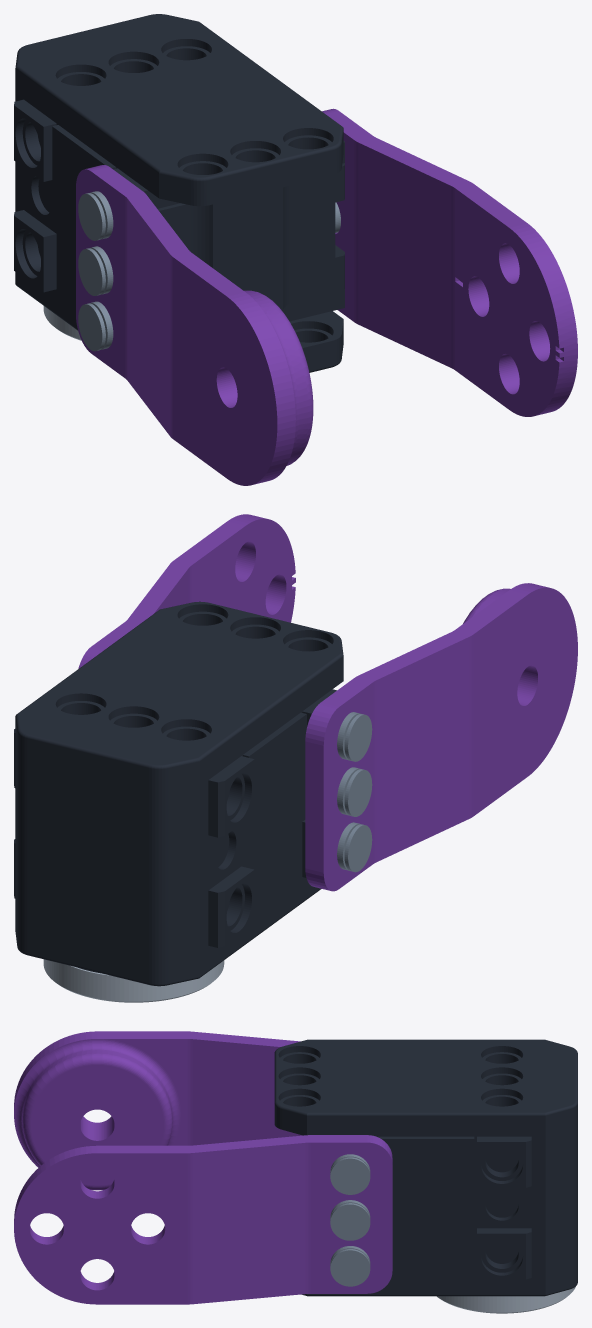
The model's file is section_3.dae.
3 views of the same model, one above another, from view 1: azimuth 30°, elevation 25°; view 2: azimuth 150°, elevation 25°; view 3: azimuth 270°, elevation 25° (orthographic). The views are drawn at different scales.
Visible parts, largest first — view 1: section_3_015_body, section_3_002_horn2horn, section_3_005_side2side, section_3_010_insert, section_3_006_insert, section_3_004_insert; view 2: section_3_015_body, section_3_005_side2side, section_3_002_horn2horn, section_3_014_horn, section_3_006_insert, section_3_004_insert, section_3_010_insert; view 3: section_3_015_body, section_3_002_horn2horn, section_3_005_side2side, section_3_014_horn, section_3_001_insert, section_3_008_insert, section_3_013_insert.
Boxes of the visible parts, x1,y1,x2,y2 form: section_3_015_body: [14, 14, 344, 372]; section_3_002_horn2horn: [322, 108, 577, 416]; section_3_005_side2side: [76, 165, 313, 485]; section_3_010_insert: [78, 303, 105, 351]; section_3_006_insert: [78, 248, 105, 295]; section_3_004_insert: [78, 193, 105, 240]; section_3_015_body: [14, 601, 343, 986]; section_3_005_side2side: [305, 583, 577, 891]; section_3_002_horn2horn: [78, 514, 295, 668]; section_3_014_horn: [43, 959, 224, 1002]; section_3_006_insert: [344, 769, 372, 816]; section_3_004_insert: [344, 714, 372, 761]; section_3_010_insert: [344, 824, 372, 872]; section_3_015_body: [274, 1039, 577, 1296]; section_3_002_horn2horn: [14, 1135, 392, 1304]; section_3_005_side2side: [14, 1031, 302, 1190]; section_3_014_horn: [437, 1286, 575, 1313]; section_3_001_insert: [330, 1203, 370, 1240]; section_3_008_insert: [330, 1157, 370, 1194]; section_3_013_insert: [330, 1249, 370, 1286].
Bounding box in the file's own units: 0.0342 × 0.0669 × 0.027.
